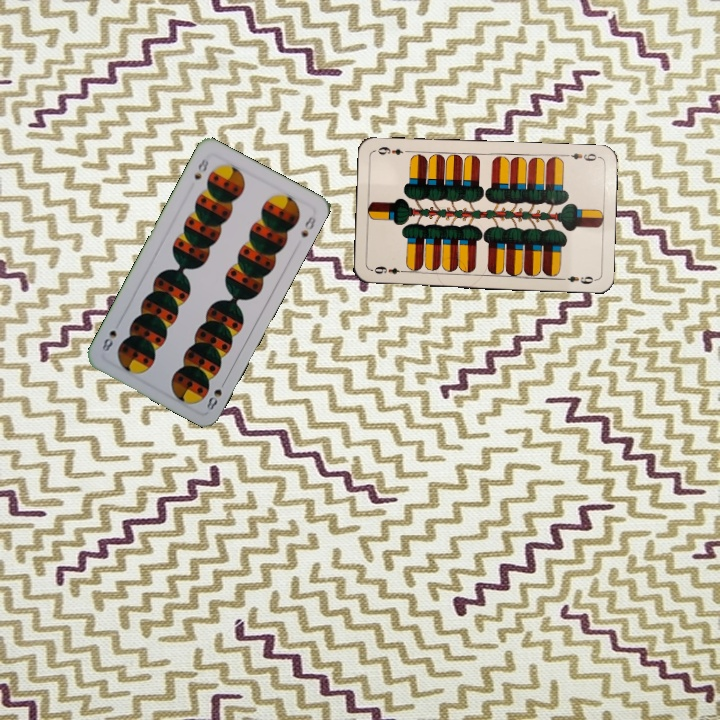E9: (368, 262, 409, 277), (561, 149, 602, 164)
S8: (202, 375, 229, 413), (190, 154, 211, 182)
